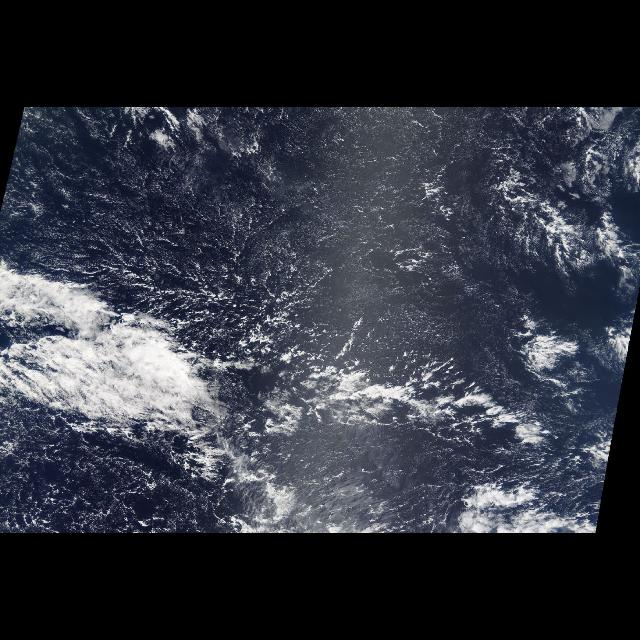Sugar: (42, 115, 536, 292)
